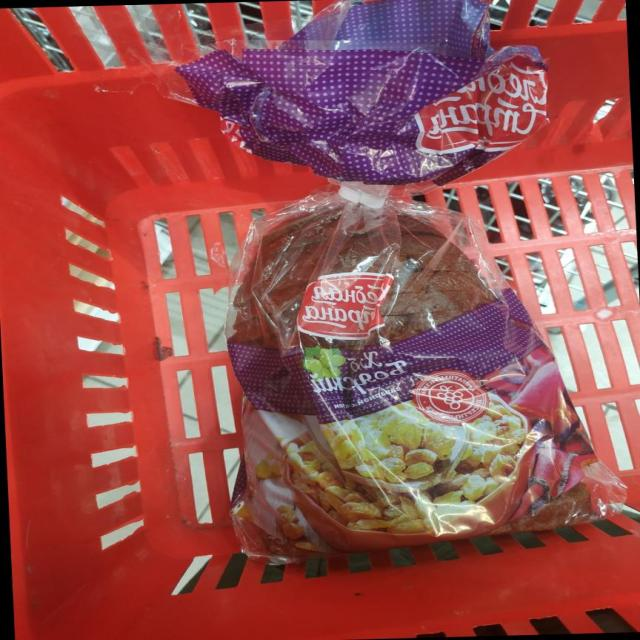Bread: (177, 0, 625, 561)
